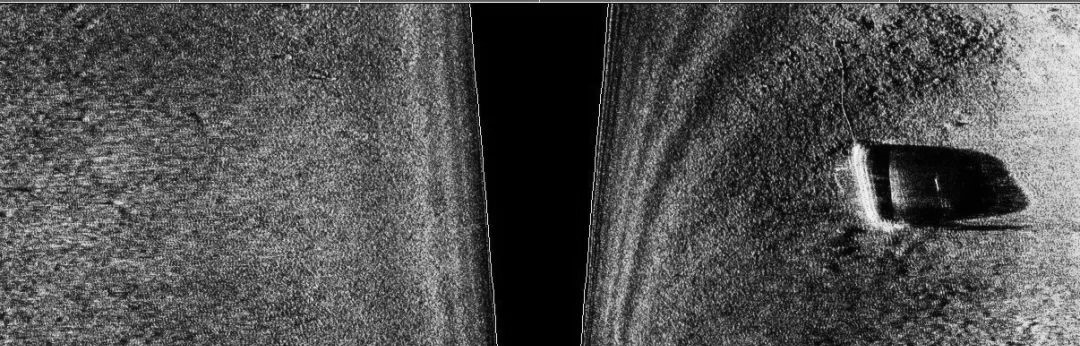ship: (841, 136, 921, 233)
